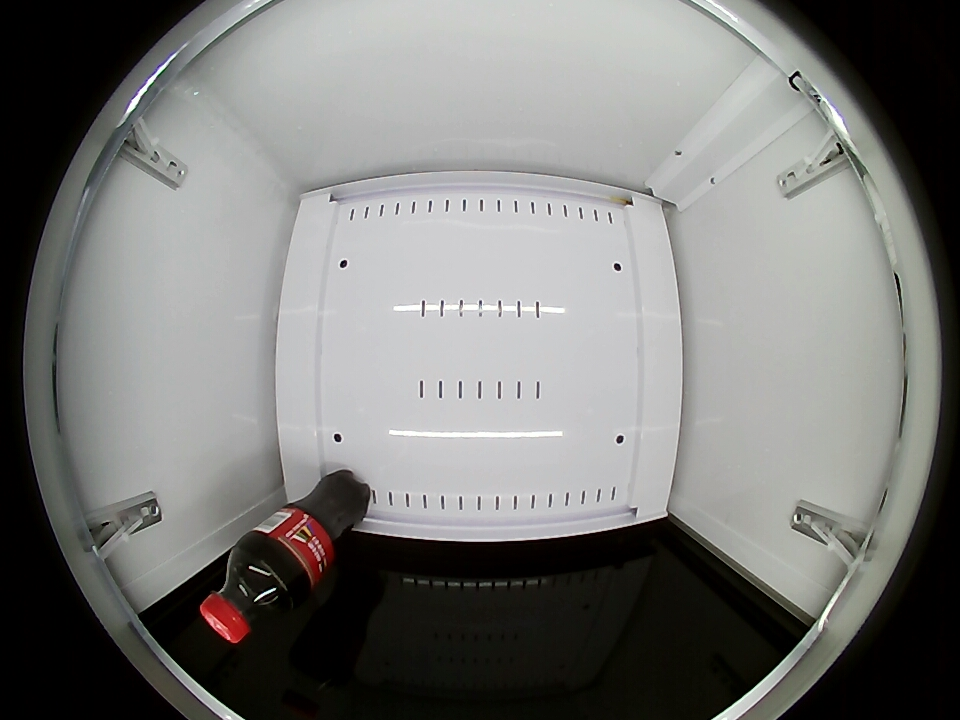kele-b: (200, 547, 298, 643)
